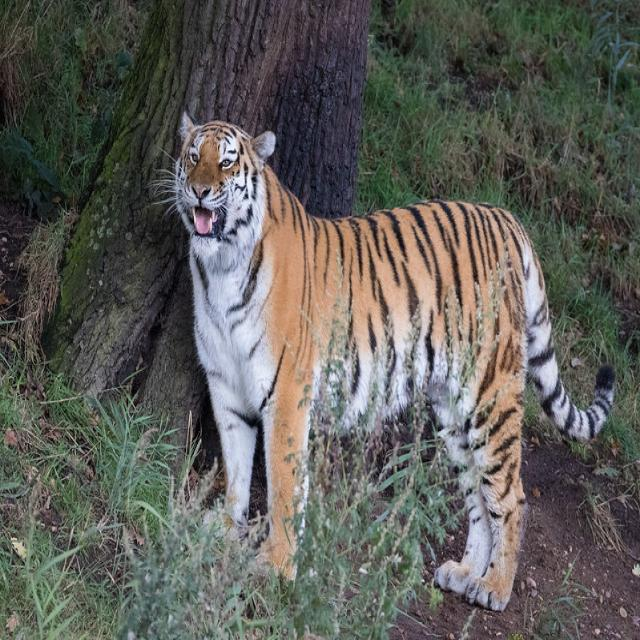Tiger: (167, 108, 616, 611)
